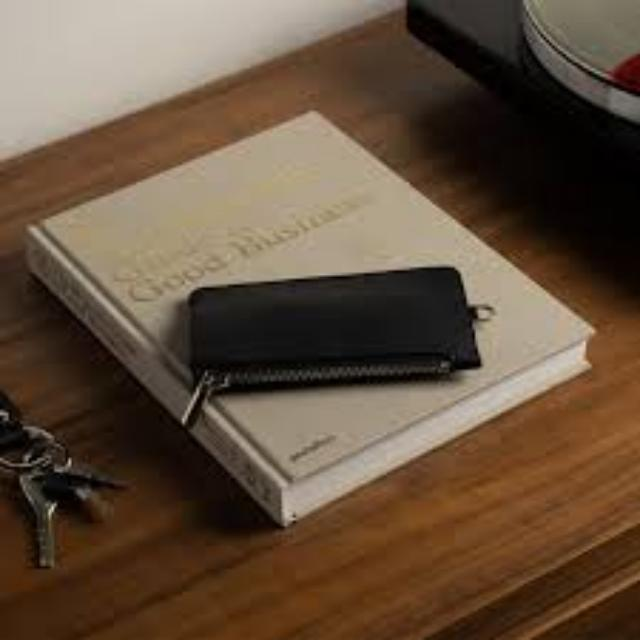wallet: (176, 261, 510, 417)
